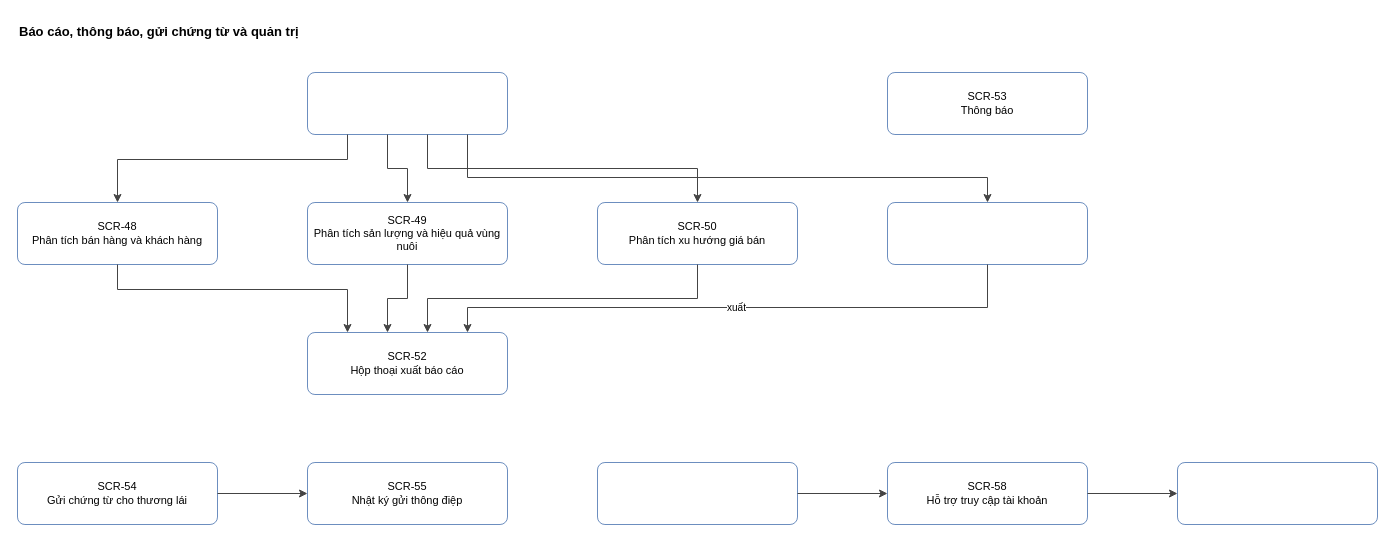
This 1395x542 diagram has some shape labels left out. The centre of each missing label's shape, as x and y in pixels:
SCR-47 Bảng điều hành vận hành: the point at 407,103
SCR-51 Phân tích hàng trả và giảm giá: the point at 987,233
SCR-57 Cấu hình nền tảng: the point at 697,493
SCR-59 Nhật ký kiểm toán: the point at 1277,493
